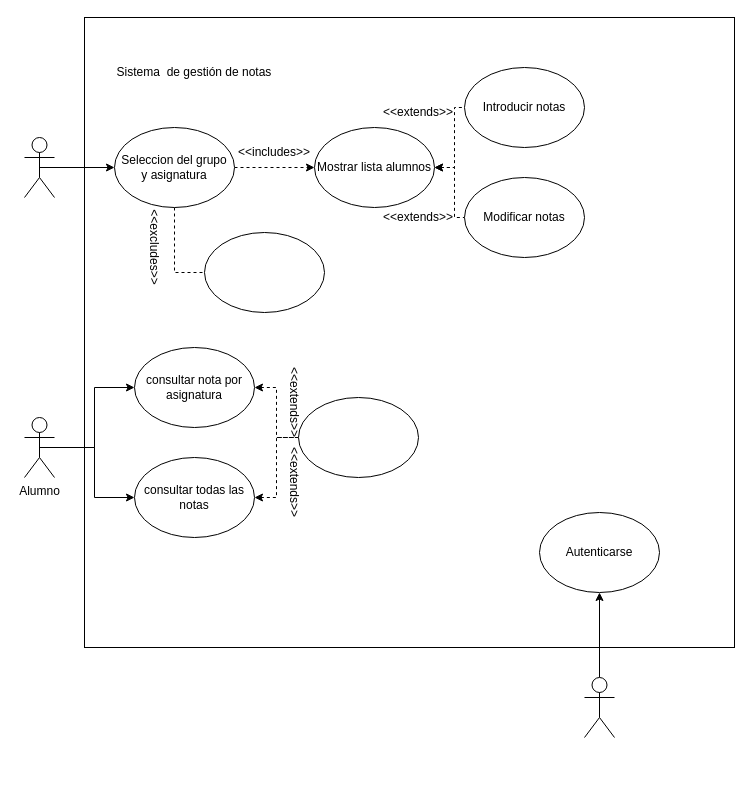
Image size: 752x791. Some labels were removed from this diagram. The shapes that lost their labels are listed below. From the top down, each one's centre as x and y in pixels, then its label:
(39,167): Profesor
(264,272): Obtener informe en pdf
(358,437): obtener informe por pdf
(599,707): Usuario
